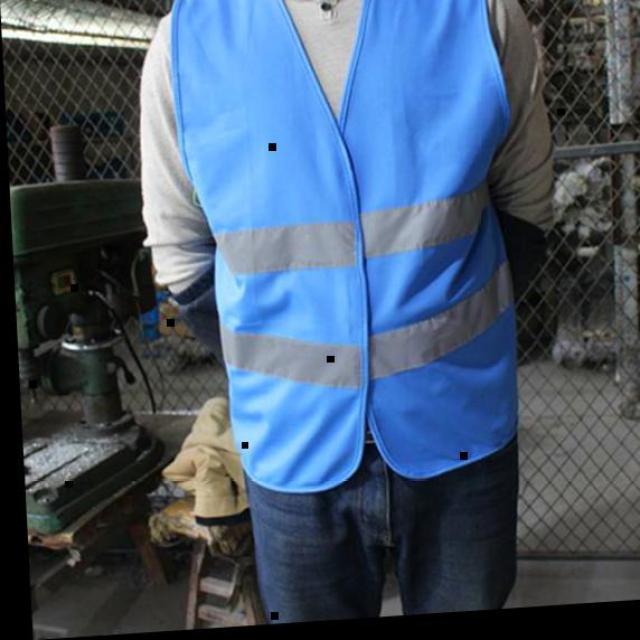safety_helmet: (146, 0, 545, 491)
